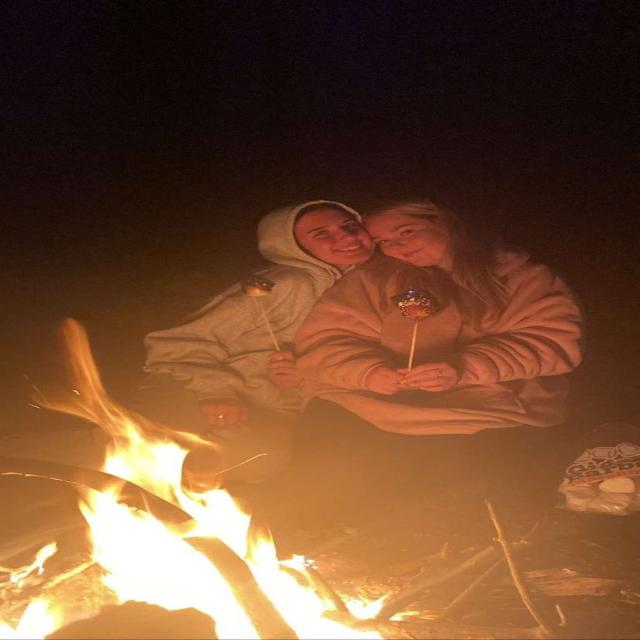fire: (83, 426, 383, 640), (6, 595, 66, 640)
